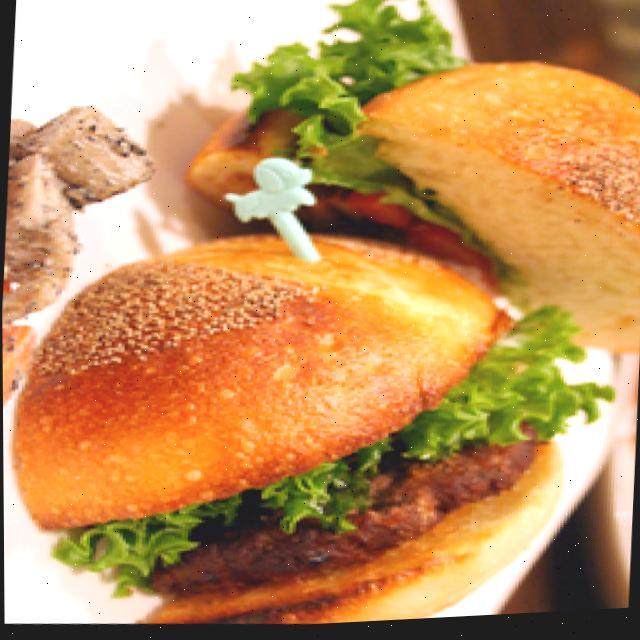汉堡快餐: (6, 27, 640, 640)
